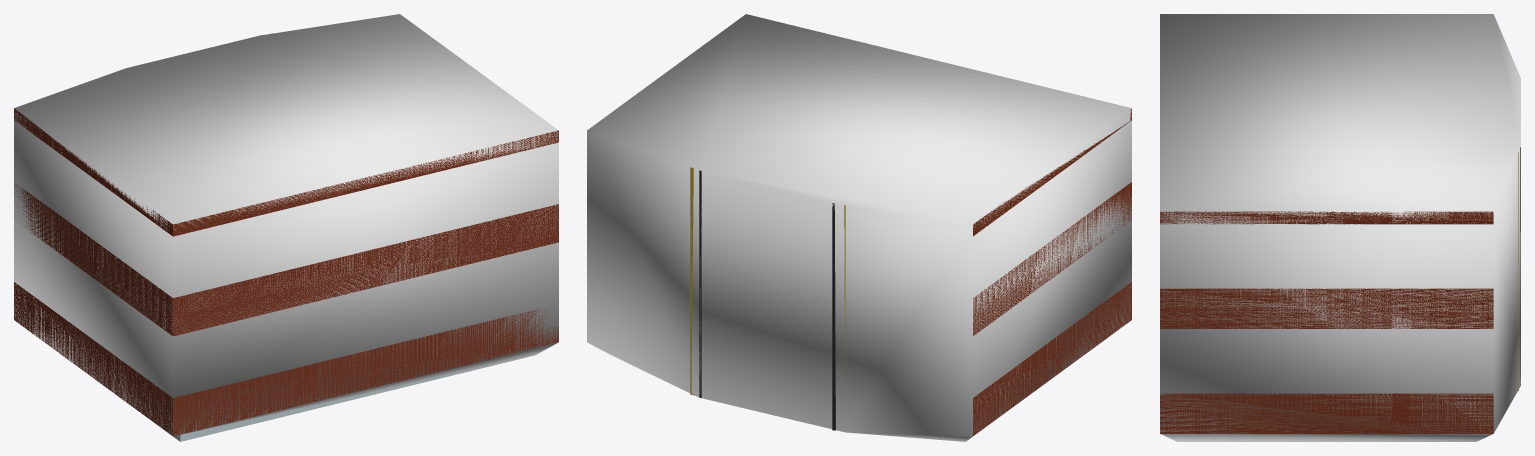
The picture shows the model from 3 angles, left to right: view 1: azimuth 30°, elevation 25°; view 2: azimuth 150°, elevation 25°; view 3: azimuth 270°, elevation 25°; orthographic projection. The views are drawn at different scales.
Visible parts, largest first — view 1: struct_city_block_low_tier1_01_col, struct_city_block_low_tier1_01; view 2: struct_city_block_low_tier1_01_col, struct_city_block_low_tier1_01; view 3: struct_city_block_low_tier1_01_col, struct_city_block_low_tier1_01.
Boxes of the visible parts, <box> form: struct_city_block_low_tier1_01_col: <box>14,14,558,435</box>; struct_city_block_low_tier1_01: <box>14,33,558,441</box>; struct_city_block_low_tier1_01_col: <box>587,14,1131,441</box>; struct_city_block_low_tier1_01: <box>690,109,1131,435</box>; struct_city_block_low_tier1_01_col: <box>1160,14,1520,441</box>; struct_city_block_low_tier1_01: <box>1160,147,1520,433</box>.
Size of the model in its own units: 10.14 by 5.71 by 7.83.
2 materials, 2 textured.
